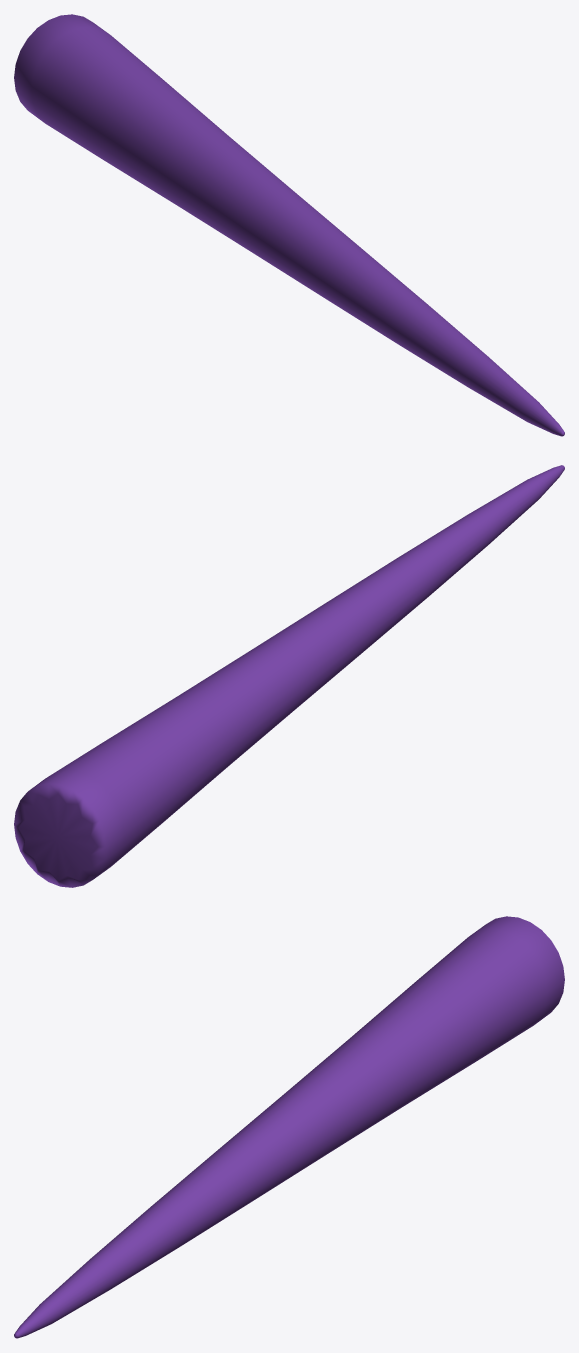
File: needle2.fbx
3 renders of one model, top to bottom at view 1: azimuth 30°, elevation 25°; view 2: azimuth 150°, elevation 25°; view 3: azimuth 330°, elevation 25°, orthographic.
Visible parts, largest first — view 1: pCone1; view 2: pCone1; view 3: pCone1.
Part boxes in pixels (<box>): pCone1: <box>14,14,564,436</box>; pCone1: <box>14,465,564,887</box>; pCone1: <box>14,916,564,1338</box>.
Size of the model in its own units: 1.19 by 1.25 by 11.24.
